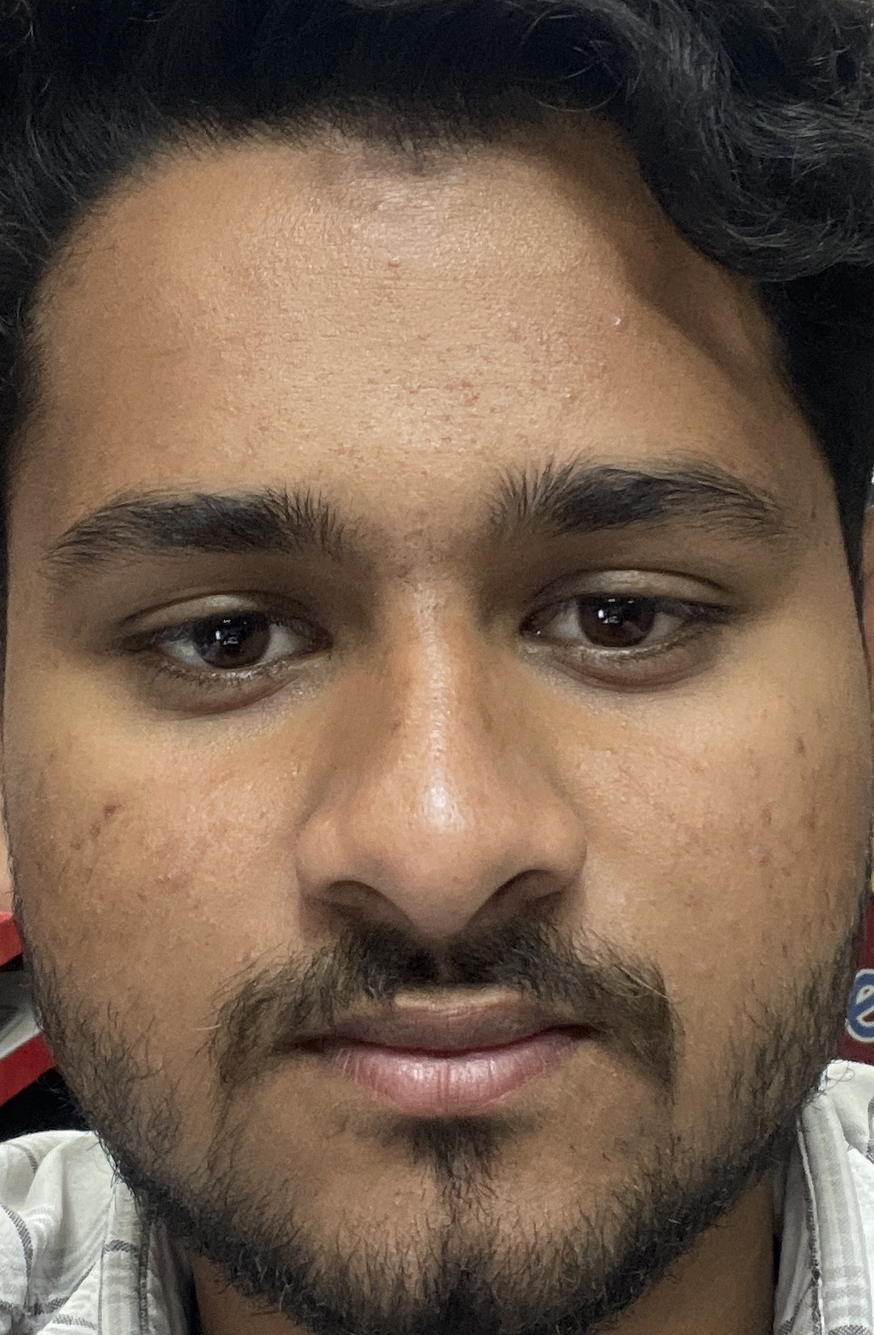closed_comedone: (381, 246, 436, 299), (491, 307, 544, 356), (597, 303, 656, 347)
